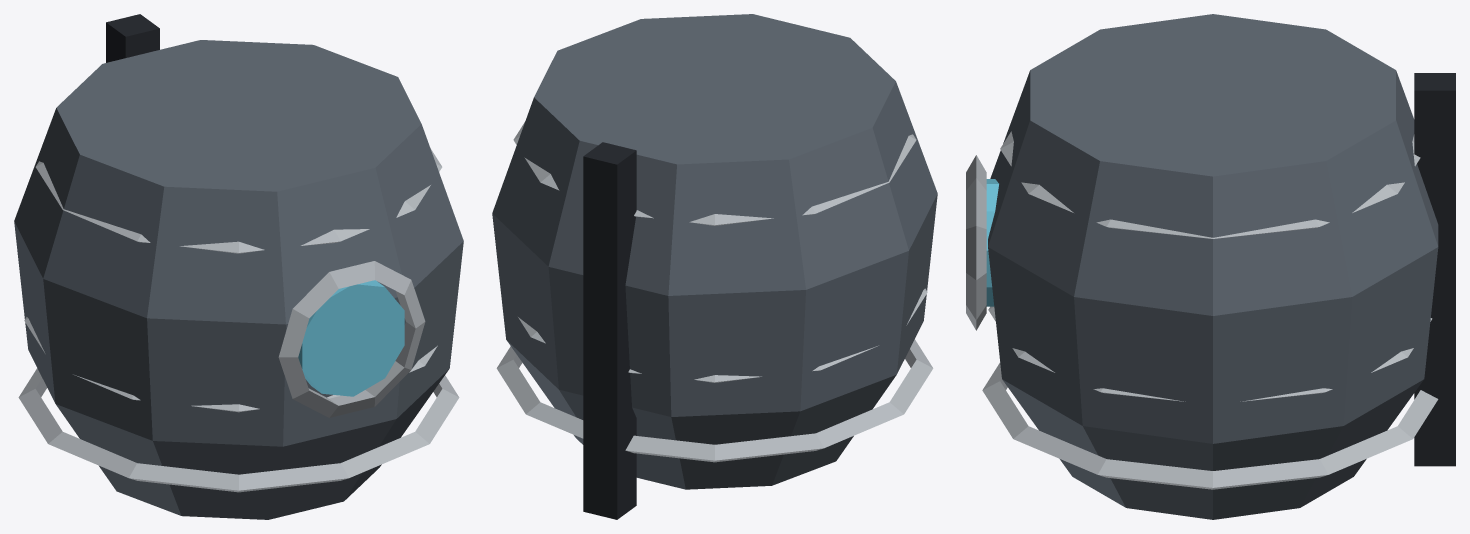
File: torso-prosthesis.glb
3 renders of one model, left to right at view 1: azimuth 30°, elevation 25°; view 2: azimuth 150°, elevation 25°; view 3: azimuth 270°, elevation 25°, orthographic. The views are drawn at different scales.
Visible parts, largest first — view 1: m; view 2: m; view 3: m.
Boxes of the visible parts, x1,y1,x2,y2 form: m: [14, 14, 463, 519]; m: [492, 14, 937, 519]; m: [966, 14, 1455, 519].
Bounding box in the file's own units: 0.1943 × 0.17 × 0.2009.
